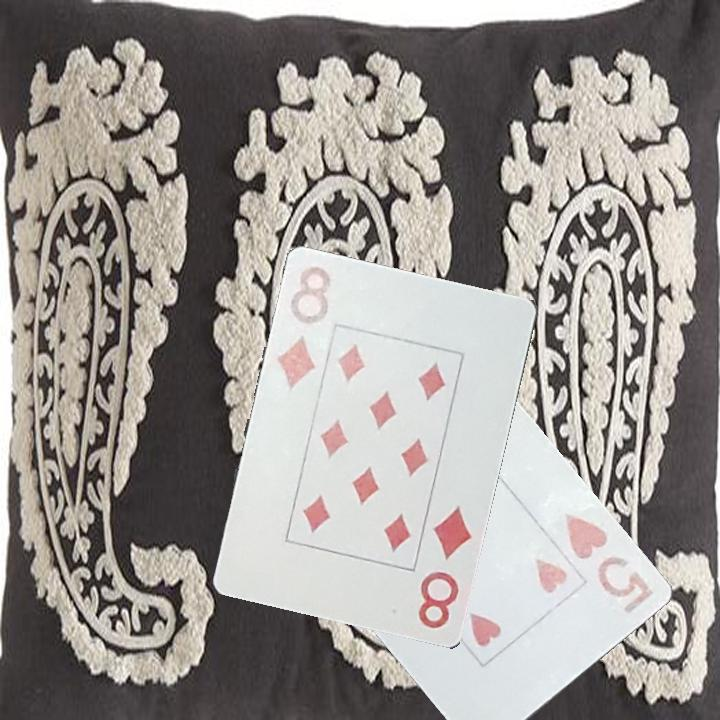5h: (559, 508, 656, 617)
8d: (414, 502, 476, 633), (274, 263, 334, 393)
